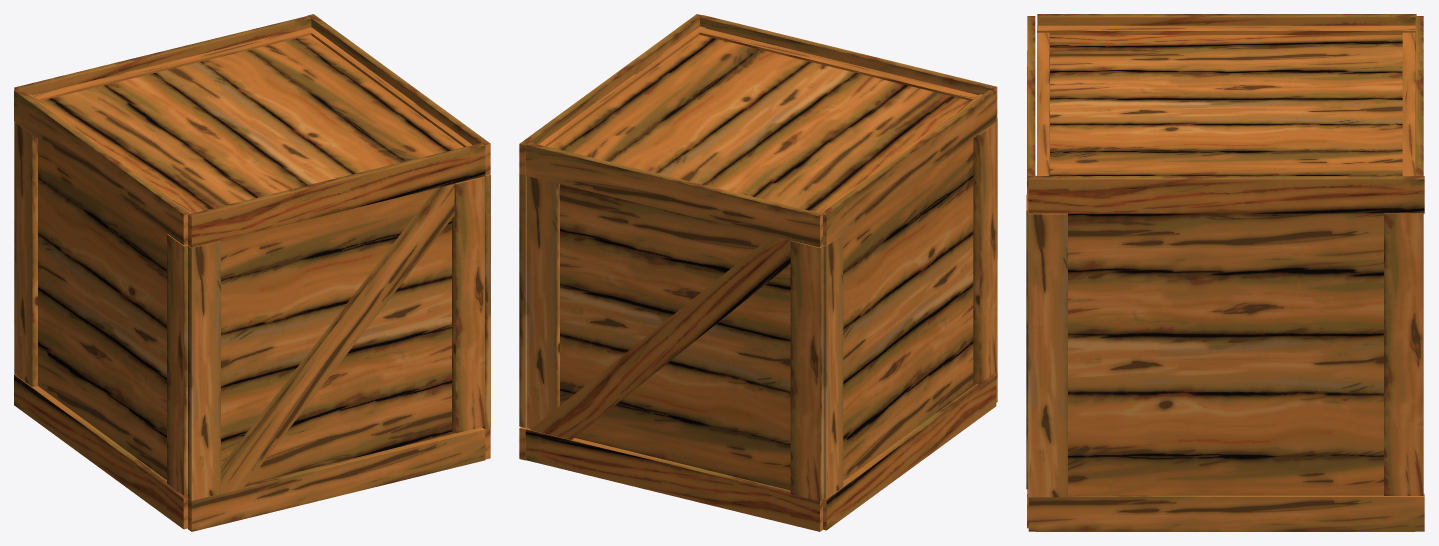
File: HolzKiste.FBX
3 views of the same model, side by side, from view 1: azimuth 30°, elevation 25°; view 2: azimuth 150°, elevation 25°; view 3: azimuth 270°, elevation 25° (orthographic). The views are drawn at different scales.
Visible parts, largest first — view 1: HolzKiste, HolzKistenDeckel; view 2: HolzKiste, HolzKistenDeckel; view 3: HolzKiste, HolzKistenDeckel.
Part boxes in pixels (x1,y1,x2,y2): HolzKiste: (14,14,490,531); HolzKistenDeckel: (41,35,463,212); HolzKiste: (519,14,997,531); HolzKistenDeckel: (547,35,970,212); HolzKiste: (1026,14,1424,531); HolzKistenDeckel: (1050,35,1402,175).
Size of the model in its own units: 30.99 by 31.46 by 30.84.
